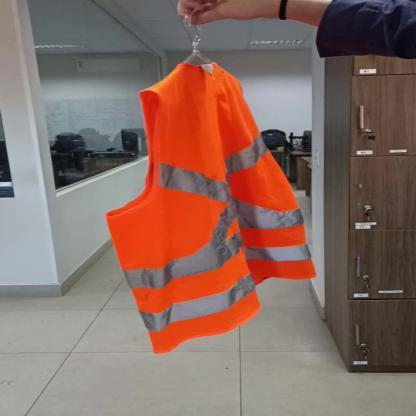colete: (102, 59, 327, 356)
